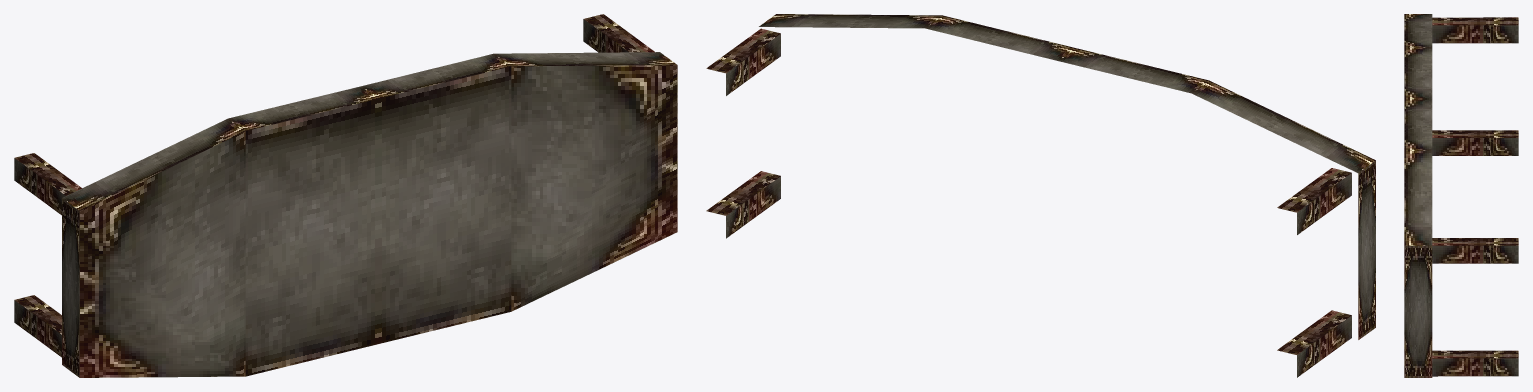
File: Fort15.glb
3 views of the same model, side by side, from view 1: azimuth 30°, elevation 25°; view 2: azimuth 150°, elevation 25°; view 3: azimuth 270°, elevation 25° (orthographic). The views are drawn at different scales.
Visible parts, largest first — view 1: model_Fort15; view 2: model_Fort15; view 3: model_Fort15.
Part boxes in pixels (x1,y1,x2,y2): model_Fort15: (14,14,677,377); model_Fort15: (706,14,1375,377); model_Fort15: (1404,14,1518,377).
Bounding box in the file's own units: 3.04 × 1.19 × 0.6354.
1 material, 1 textured.
